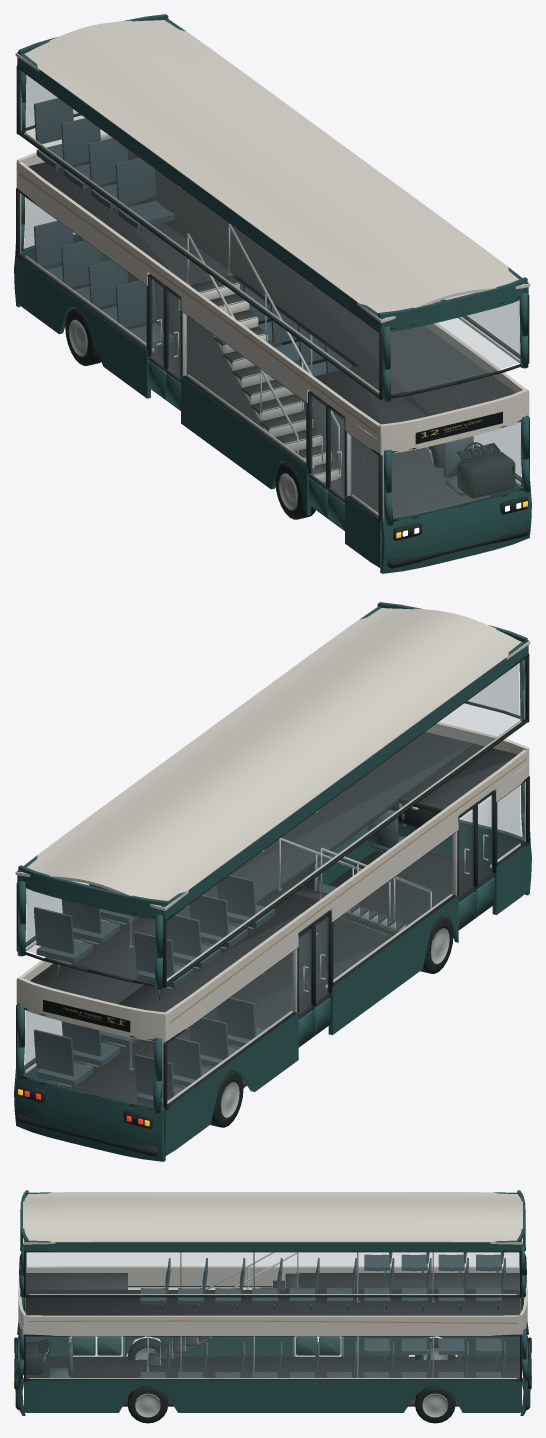
The model's file is serein-d11-lod1.glb.
3 renders of one model, top to bottom at view 1: azimuth 30°, elevation 25°; view 2: azimuth 150°, elevation 25°; view 3: azimuth 270°, elevation 25°, orthographic. The views are drawn at different scales.
Visible parts, largest first — view 1: LOD1-unselected-authoring-10300-pearl-batch, LOD1-unselected-authoring-10300-glass-batch, LOD1-unselected-authoring-10300-floor-batch, LOD1-unselected-authoring-10300-paint-batch, LOD1-unselected-authoring-10300-cloth-batch, LOD1-unselected-authoring-10300-dark-batch, LOD1-unselected-authoring-10300-interior-batch, LOD1-unselected-authoring-10300-metal-batch, LOD1-unselected-authoring-10300-display-batch, LOD1-unselected-authoring-11053-glass-batch, LOD1-unselected-authoring-10503-glass-batch, LOD1-unselected-authoring-10417-glass-batch (+6 smaller); view 2: LOD1-unselected-authoring-10300-pearl-batch, LOD1-unselected-authoring-10300-glass-batch, LOD1-unselected-authoring-10300-floor-batch, LOD1-unselected-authoring-10300-paint-batch, LOD1-unselected-authoring-10300-cloth-batch, LOD1-unselected-authoring-10300-dark-batch, LOD1-unselected-authoring-10300-interior-batch, LOD1-unselected-authoring-10300-metal-batch, LOD1-unselected-authoring-10300-steel-batch, LOD1-unselected-authoring-11053-glass-batch, LOD1-unselected-authoring-10503-glass-batch, LOD1-unselected-authoring-10300-display-batch (+6 smaller); view 3: LOD1-unselected-authoring-10300-glass-batch, LOD1-unselected-authoring-10300-pearl-batch, LOD1-unselected-authoring-10300-paint-batch, LOD1-unselected-authoring-10300-floor-batch, LOD1-unselected-authoring-10300-cloth-batch, LOD1-unselected-authoring-10300-dark-batch, LOD1-unselected-authoring-10300-metal-batch, LOD1-unselected-authoring-10300-interior-batch, LOD1-unselected-authoring-10300-livery-batch, LOD1-unselected-authoring-11088-dark-batch, LOD1-unselected-authoring-11094-dark-batch, LOD1-unselected-authoring-10300-steel-batch (+7 smaller).
Boxes of the visible parts, x1,y1,x2,y2 form: LOD1-unselected-authoring-10300-pearl-batch: [15, 20, 530, 455]; LOD1-unselected-authoring-10300-glass-batch: [20, 72, 521, 517]; LOD1-unselected-authoring-10300-floor-batch: [28, 149, 515, 530]; LOD1-unselected-authoring-10300-paint-batch: [14, 14, 531, 573]; LOD1-unselected-authoring-10300-cloth-batch: [34, 98, 473, 495]; LOD1-unselected-authoring-10300-dark-batch: [16, 65, 529, 568]; LOD1-unselected-authoring-10300-interior-batch: [20, 87, 520, 519]; LOD1-unselected-authoring-10300-metal-batch: [146, 223, 473, 496]; LOD1-unselected-authoring-10300-display-batch: [415, 411, 502, 460]; LOD1-unselected-authoring-11053-glass-batch: [311, 398, 325, 485]; LOD1-unselected-authoring-10503-glass-batch: [330, 412, 344, 498]; LOD1-unselected-authoring-10417-glass-batch: [151, 281, 163, 366]; LOD1-unselected-authoring-10300-pearl-batch: [15, 608, 530, 1043]; LOD1-unselected-authoring-10300-glass-batch: [24, 660, 525, 1105]; LOD1-unselected-authoring-10300-floor-batch: [30, 731, 517, 1105]; LOD1-unselected-authoring-10300-paint-batch: [14, 602, 531, 1161]; LOD1-unselected-authoring-10300-cloth-batch: [34, 810, 405, 1107]; LOD1-unselected-authoring-10300-dark-batch: [16, 653, 529, 1156]; LOD1-unselected-authoring-10300-interior-batch: [25, 675, 525, 1107]; LOD1-unselected-authoring-10300-metal-batch: [130, 804, 492, 1068]; LOD1-unselected-authoring-10300-steel-batch: [45, 803, 432, 1106]; LOD1-unselected-authoring-11053-glass-batch: [459, 811, 473, 898]; LOD1-unselected-authoring-10503-glass-batch: [478, 797, 492, 884]; LOD1-unselected-authoring-10300-display-batch: [43, 999, 130, 1032]; LOD1-unselected-authoring-10300-glass-batch: [18, 1252, 527, 1378]; LOD1-unselected-authoring-10300-pearl-batch: [18, 1192, 527, 1335]; LOD1-unselected-authoring-10300-paint-batch: [14, 1190, 531, 1415]; LOD1-unselected-authoring-10300-floor-batch: [25, 1273, 520, 1406]; LOD1-unselected-authoring-10300-cloth-batch: [48, 1252, 505, 1377]; LOD1-unselected-authoring-10300-dark-batch: [14, 1240, 531, 1409]; LOD1-unselected-authoring-10300-metal-batch: [47, 1252, 433, 1377]; LOD1-unselected-authoring-10300-interior-batch: [25, 1275, 520, 1378]; LOD1-unselected-authoring-10300-livery-batch: [28, 1320, 517, 1323]; LOD1-unselected-authoring-11088-dark-batch: [127, 1386, 168, 1423]; LOD1-unselected-authoring-11094-dark-batch: [415, 1385, 455, 1423]; LOD1-unselected-authoring-10300-steel-batch: [43, 1271, 498, 1371].
Bounding box in the file's own units: 2.54 × 4.4 × 10.98.
Materials: 14 (4 with a texture image).
